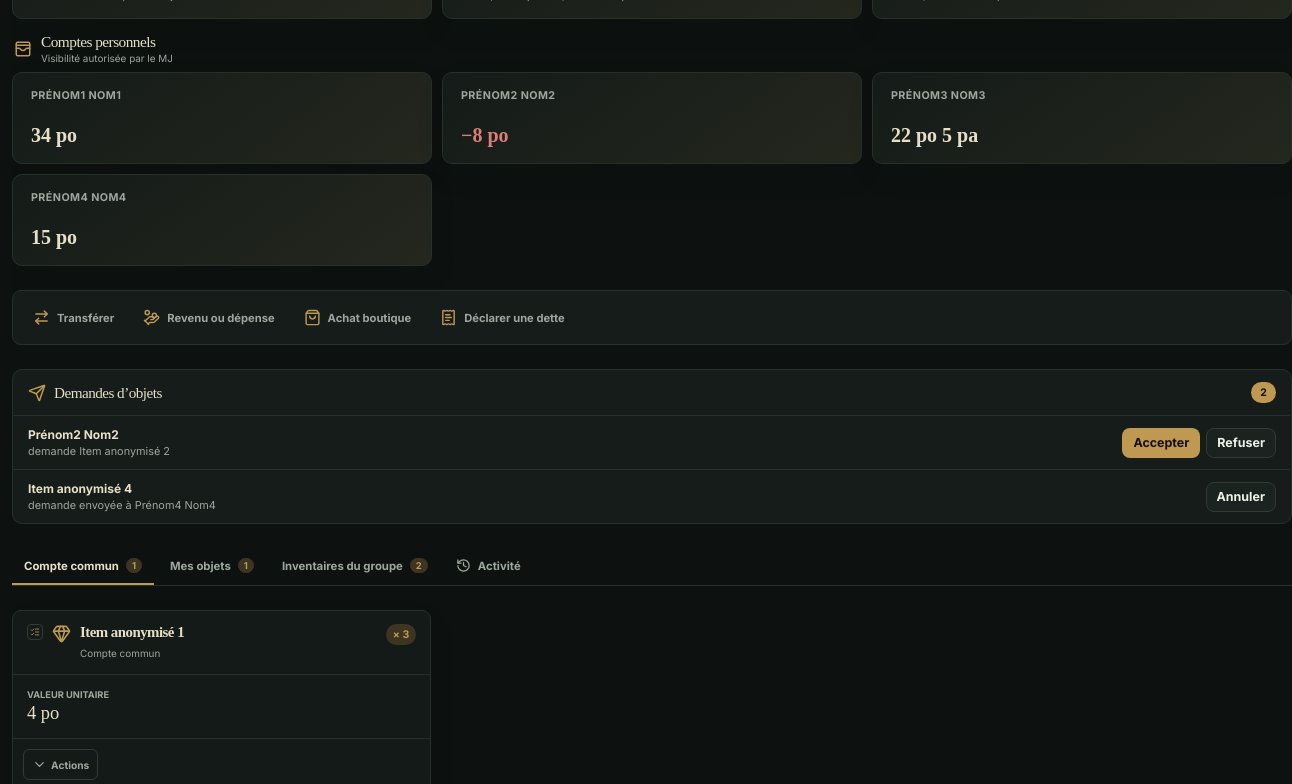
permet de sélectionner plusieurs objets pour une action groupée
The image size is (1292, 784).
(page scrolled)
Click the checkbox named "Sélectionner pour une action groupée". click: (35, 632)
box: [27,624,43,640]
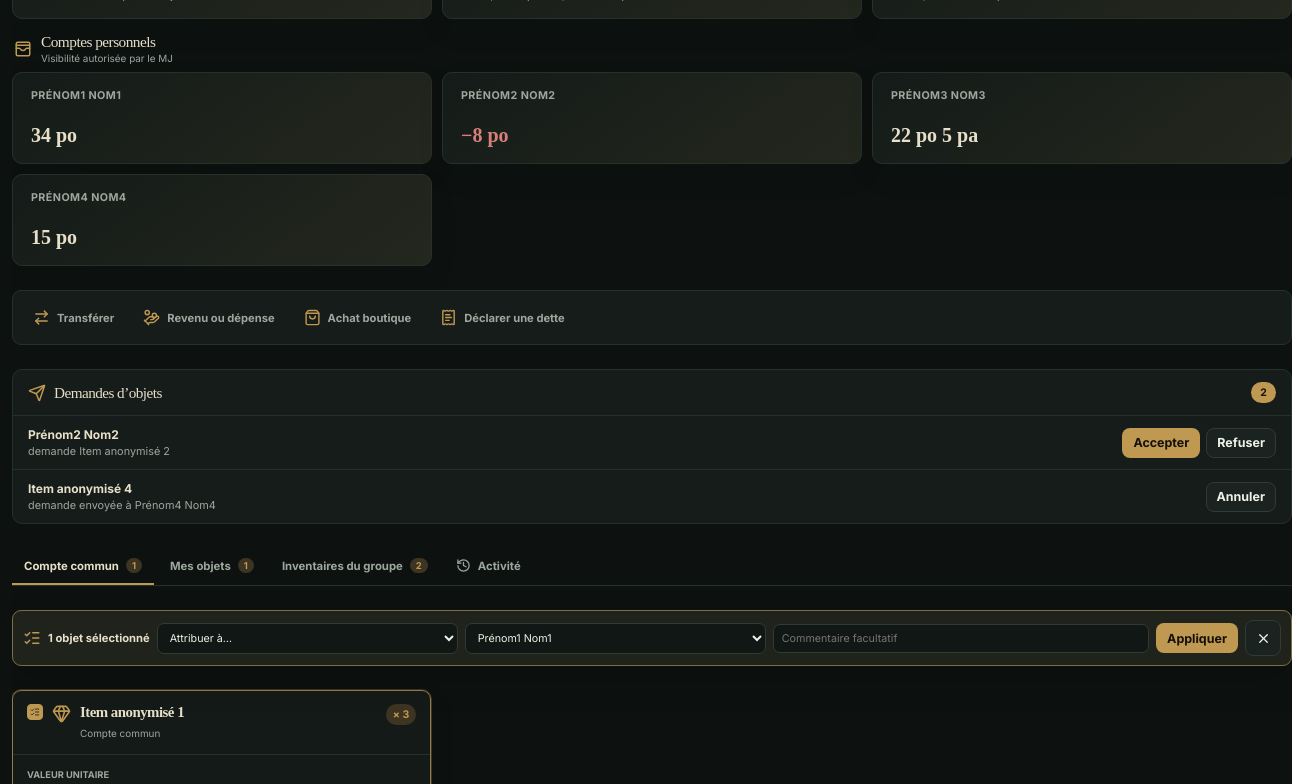
Now the element with class "economy-batch-bar" shows "1 objet sélectionné", box [12,610,1291,666]
Now the element with class "economy-batch-bar" shows "Appliquer", box [1156,623,1238,653]
